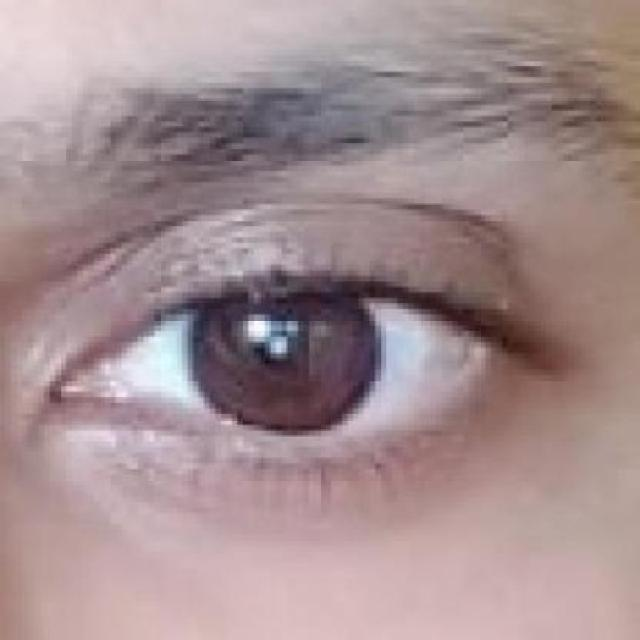awake: (108, 282, 489, 442)
